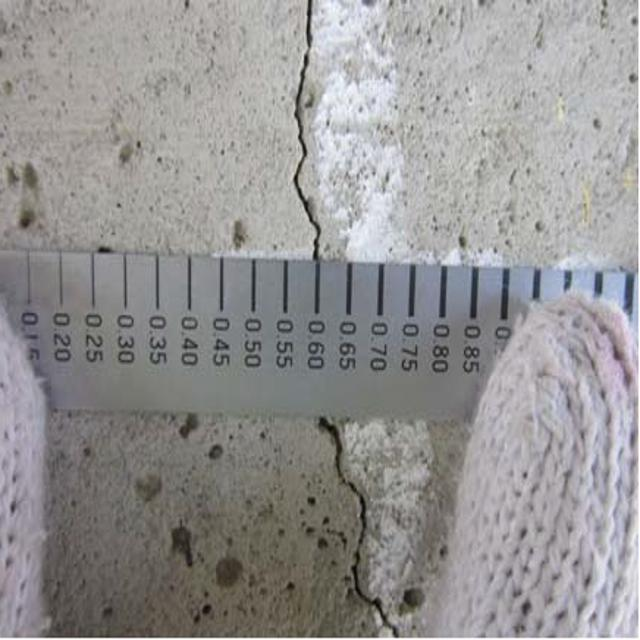crack: (314, 423, 413, 638), (284, 0, 337, 261)
